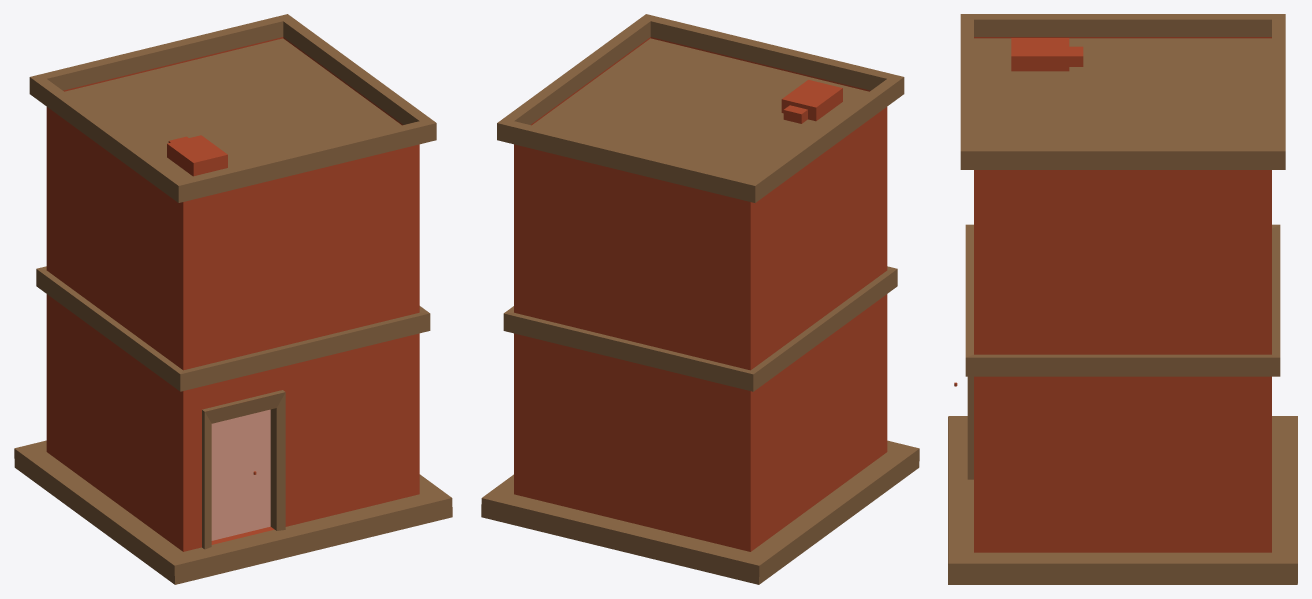
Rendered from HouseAndLotniNyep 1.fbx.
The picture shows the model from 3 angles, left to right: view 1: azimuth 30°, elevation 25°; view 2: azimuth 150°, elevation 25°; view 3: azimuth 270°, elevation 25°; orthographic projection. The views are drawn at different scales.
Visible parts, largest first — view 1: Cube; view 2: Cube; view 3: Cube.
Boxes of the visible parts, x1,y1,x2,y2 form: Cube: [14, 14, 452, 584]; Cube: [481, 14, 919, 584]; Cube: [948, 14, 1297, 584].
Bounding box in the file's own units: 1499 × 2021 × 1497.
